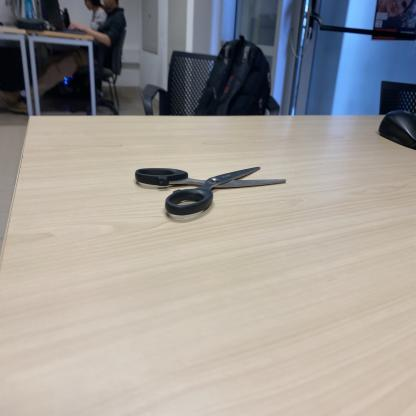scissors: (132, 160, 289, 223)
